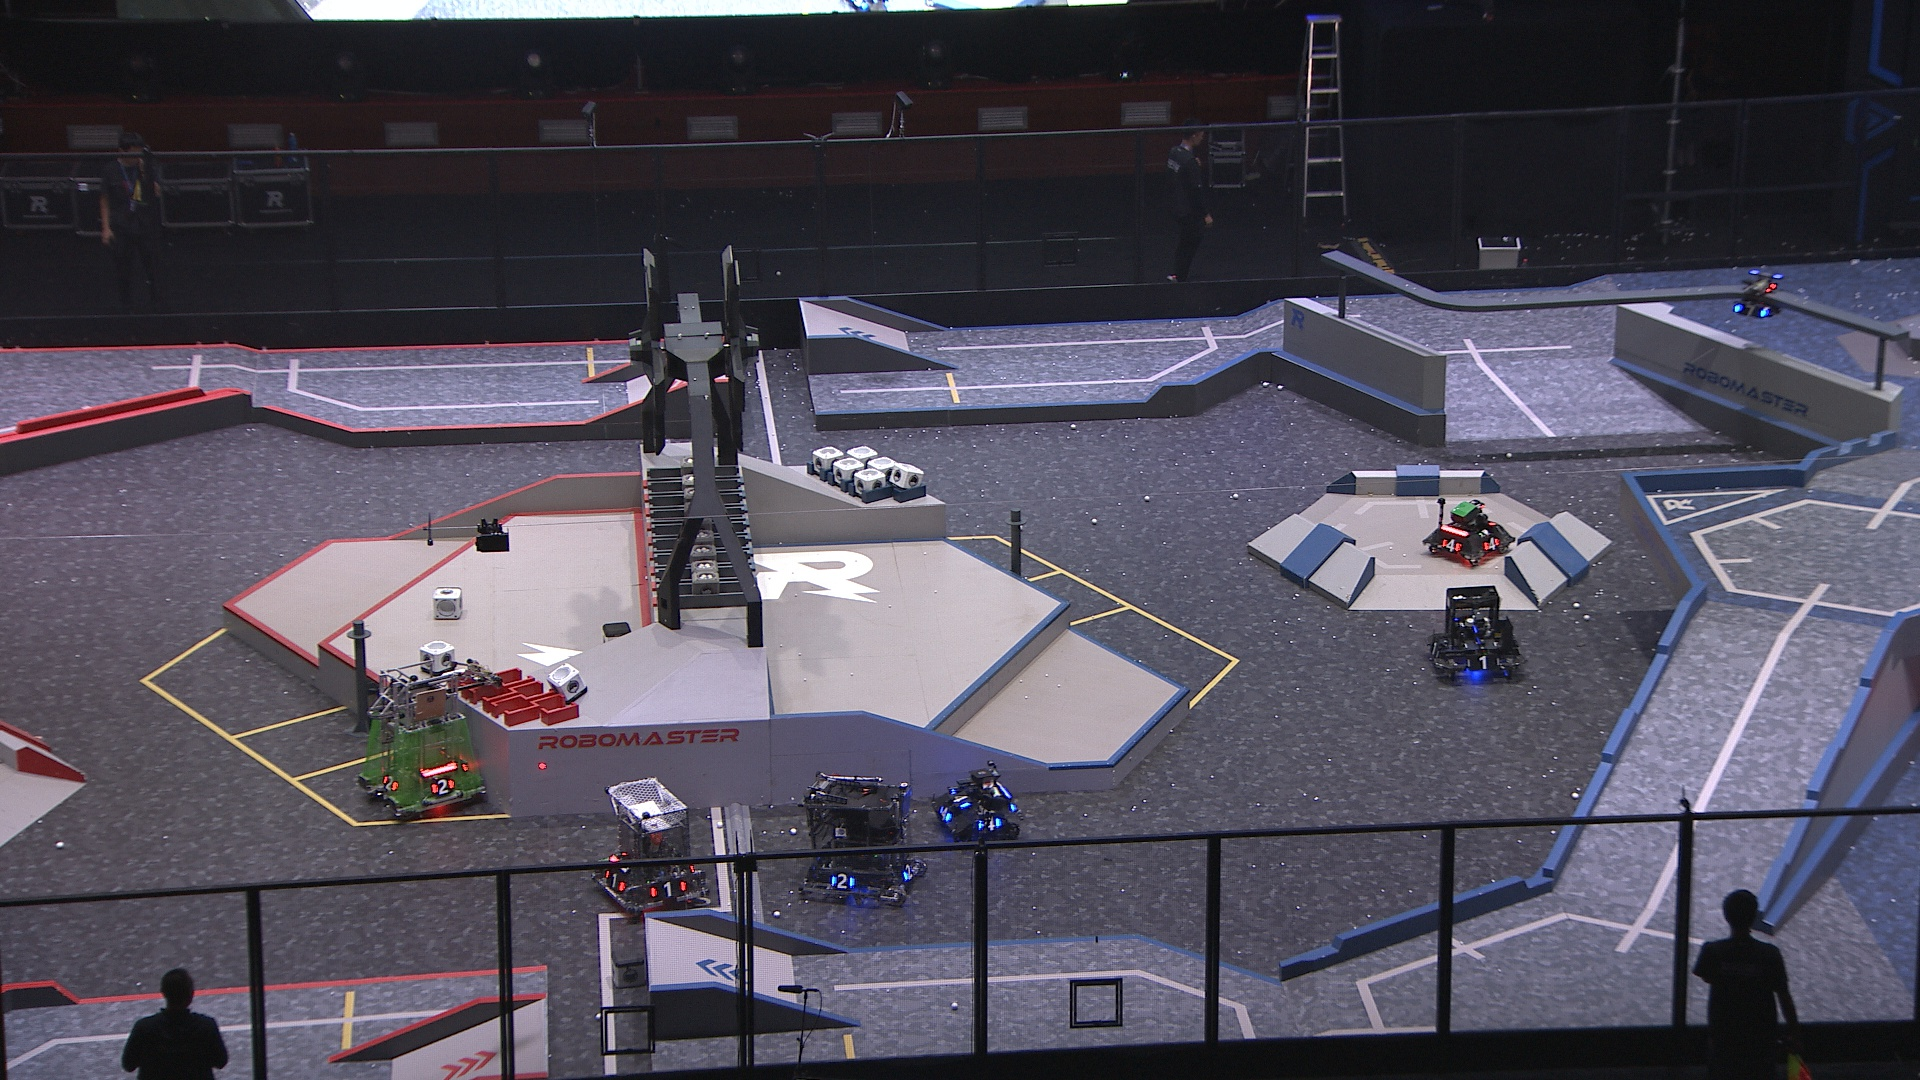armor: (647, 877, 688, 902), (975, 814, 1007, 836), (603, 868, 626, 895), (1465, 655, 1503, 673), (1462, 636, 1499, 651), (1735, 302, 1768, 319), (828, 872, 856, 891), (949, 789, 972, 812), (433, 777, 456, 796), (936, 804, 957, 823), (1482, 535, 1503, 553), (1441, 538, 1465, 553), (381, 774, 400, 793), (901, 862, 916, 882), (1428, 640, 1443, 659)
car: (361, 659, 491, 822), (589, 775, 711, 920), (799, 773, 927, 910), (1427, 582, 1524, 684), (935, 764, 1025, 847), (1423, 496, 1516, 568)
watcher: (1733, 266, 1785, 319)
